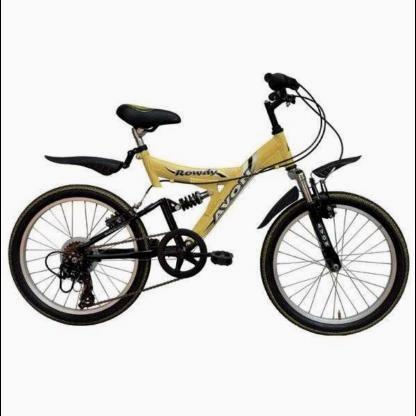Bicycle: (8, 39, 410, 352)
